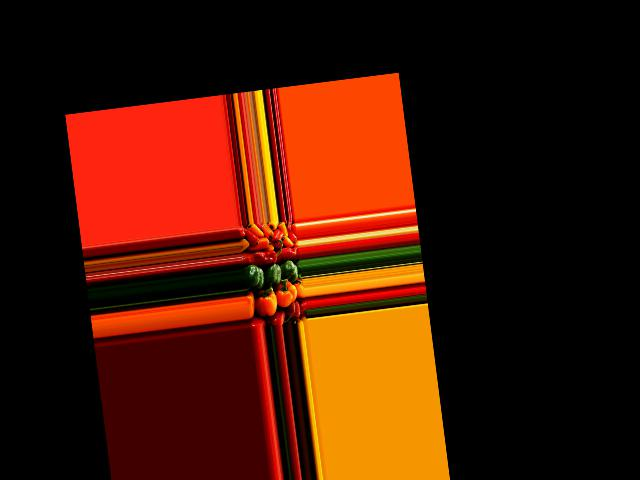bell_pepper: (242, 226, 260, 246)
